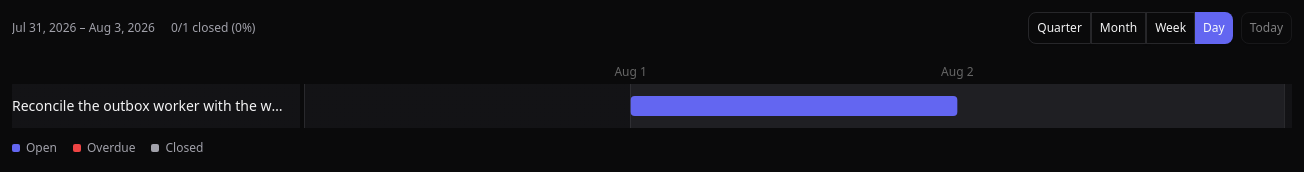
it: TaskTimelineSection › offers the full name on hover once the column has truncated it
Hover over the link "Reconcile the outbox worker with the webhook receiver".
mouse_move(150, 106)  # box [12,96,288,116]
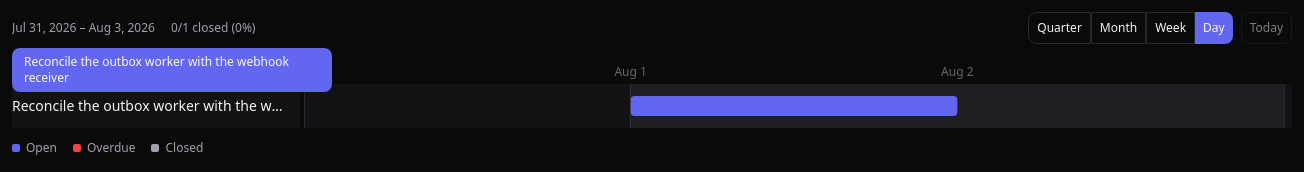
Now the tooltip reads "Reconcile the outbox worker with the webhook receiver", box [24,53,289,86]
